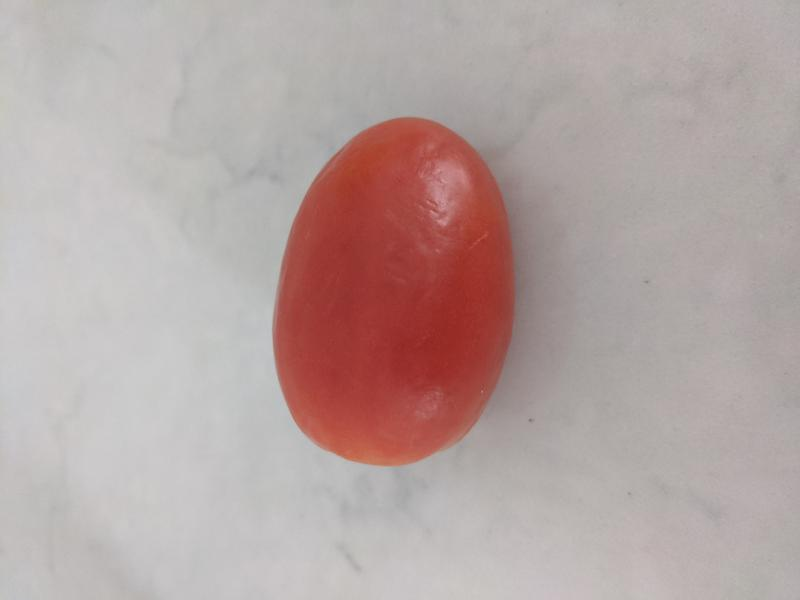tomato: (272, 116, 518, 468)
